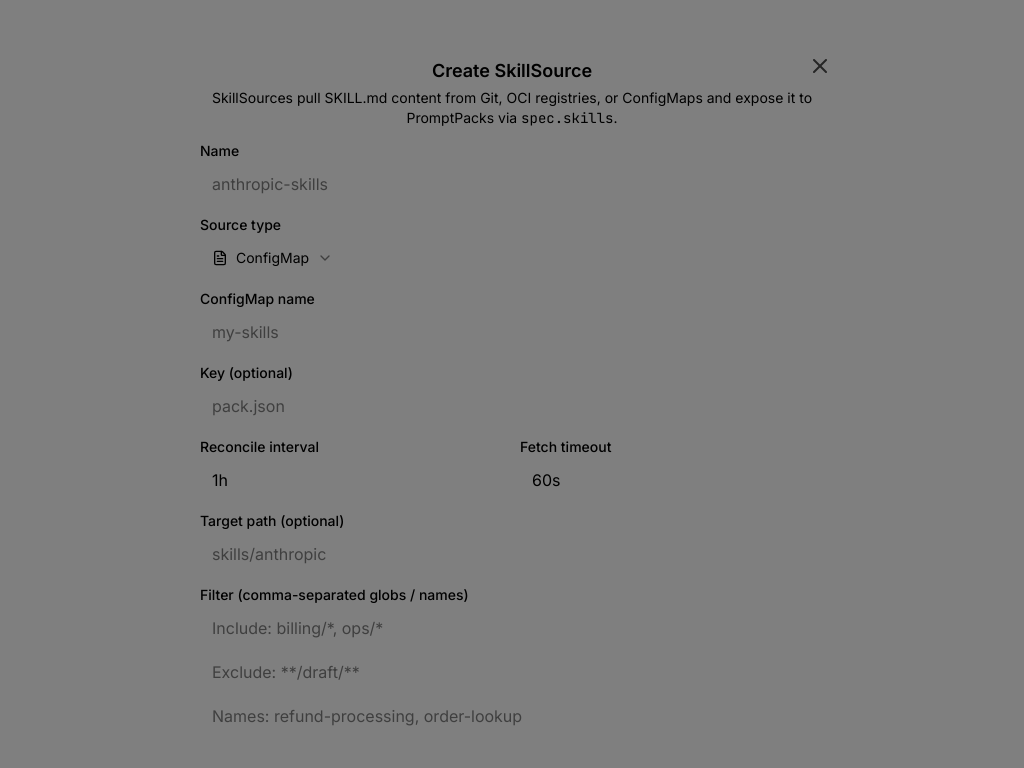
Test case: SkillSourceDialog › rejects configmap type without a ConfigMap name (cross-field check)
This screenshot has width=1024, height=768.
Type "skills-cm" into the field labelled "Name".
click(512, 184); type("skills-cm")  # box x1=200 y1=166 x2=824 y2=202
(page scrolled)
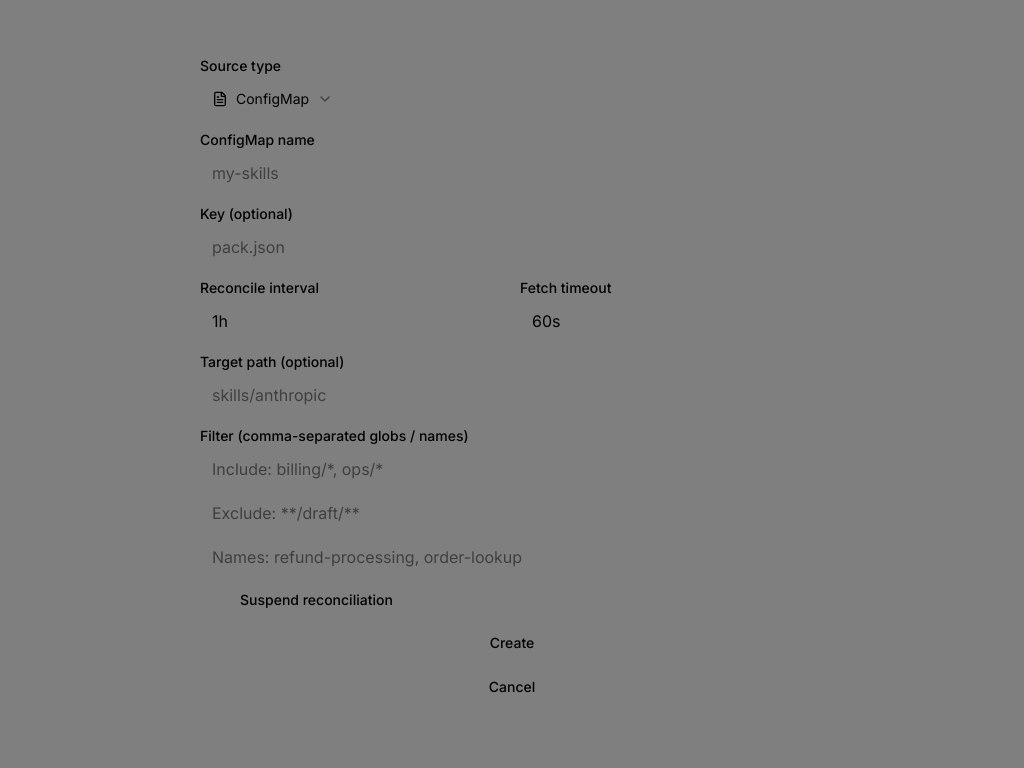
Click the button "Create".
click(512, 644)  # box x1=200 y1=626 x2=824 y2=662
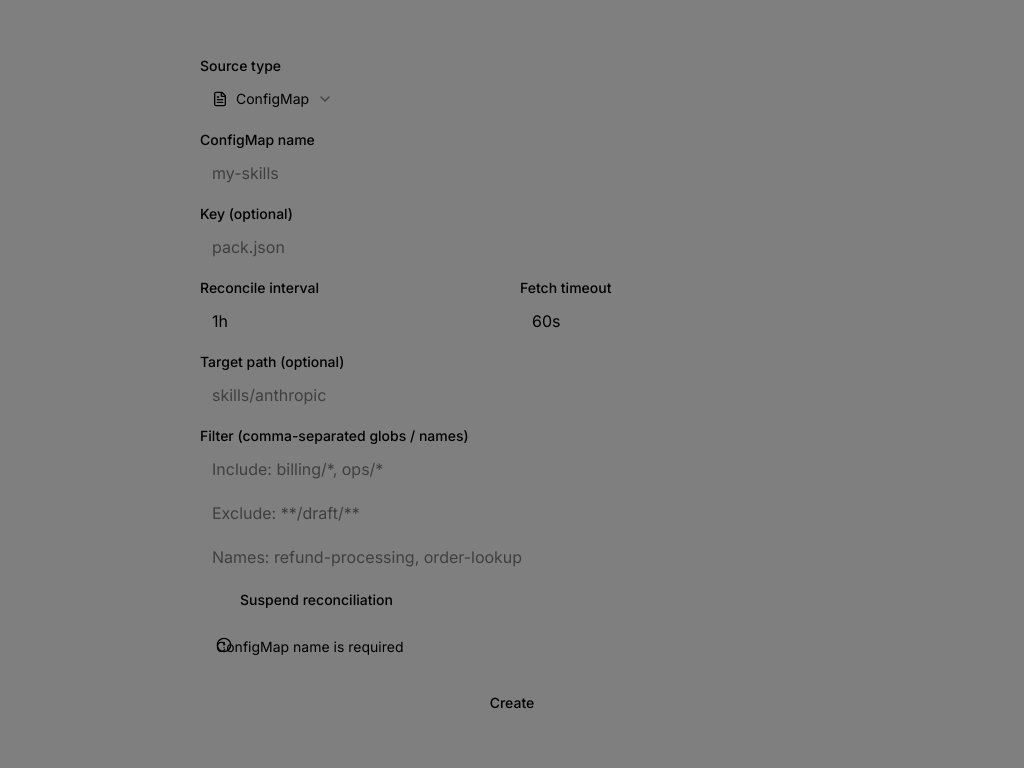
Expected: the text "ConfigMap name is required" is shown, x1=216 y1=639 x2=404 y2=656
